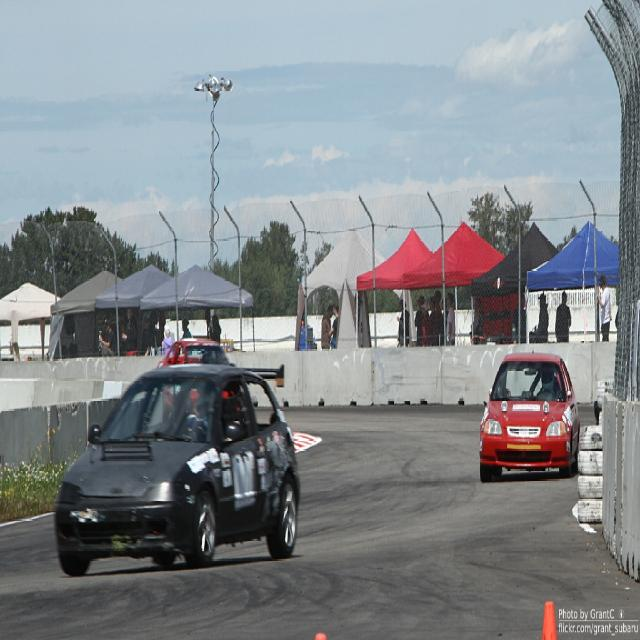car: (52, 352, 300, 570), (480, 348, 579, 480)
